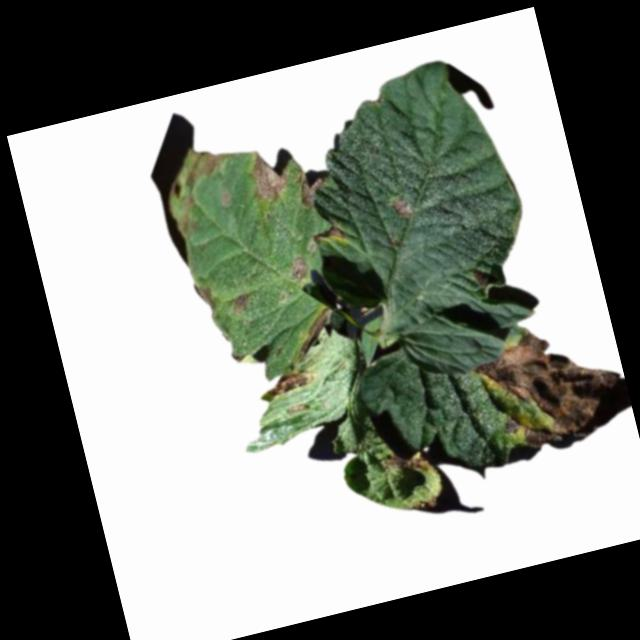Early_blight: (466, 313, 632, 458), (243, 146, 291, 207), (289, 305, 339, 358), (380, 446, 435, 484), (262, 366, 317, 401), (292, 163, 331, 212), (193, 280, 219, 315), (389, 194, 416, 224), (288, 256, 313, 282), (314, 225, 343, 246), (409, 495, 438, 513), (231, 291, 252, 315), (473, 267, 492, 291)
